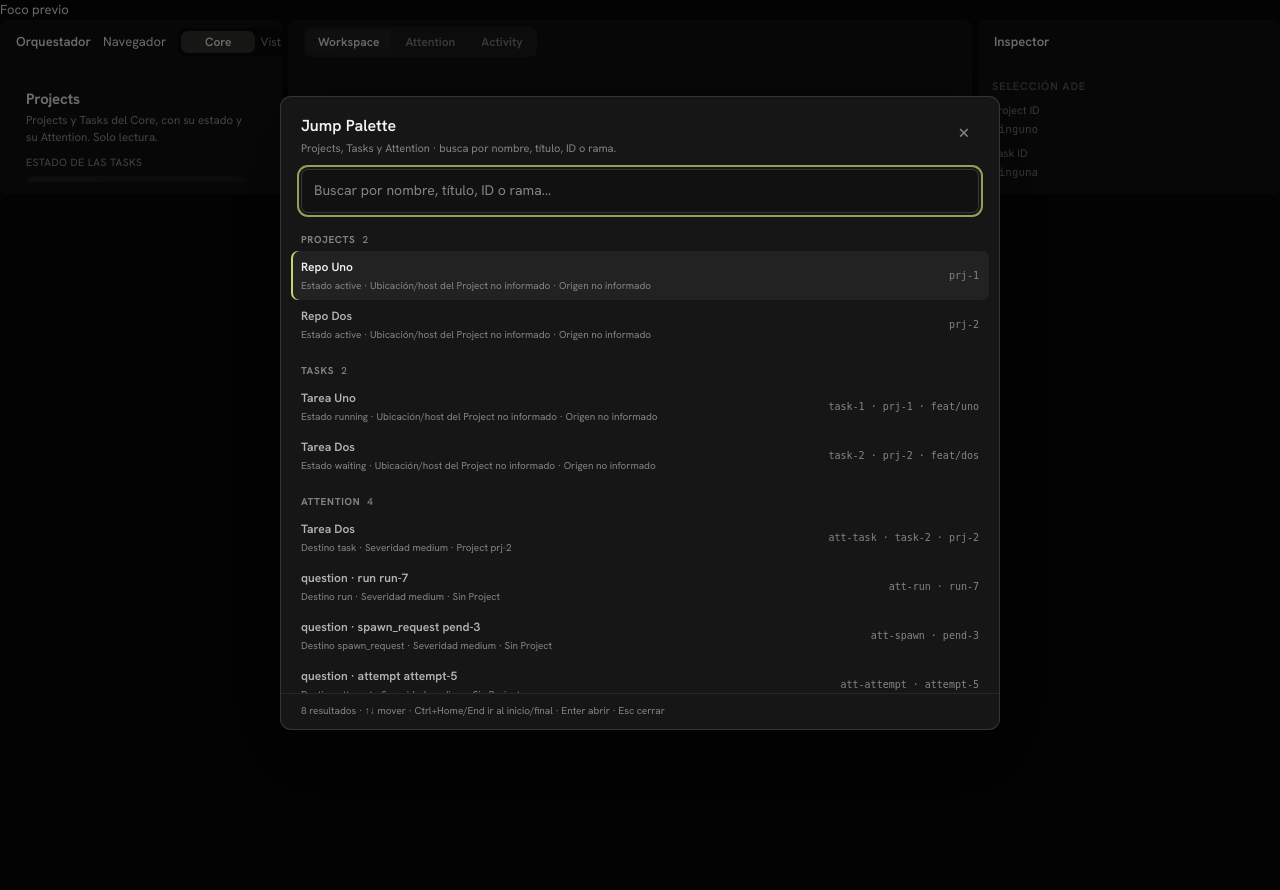
it: AdeShell · Jump Palette (LXO-102) › selecciona el Project exacto, cierra y devuelve el foco
Expected: the option "Repo Uno" is shown, [291,250,989,300]
Type "Repo Dos" into the dropdown named "Buscar Projects, Tasks y Attention". click: (640, 190)
box: [301,168,979,212]
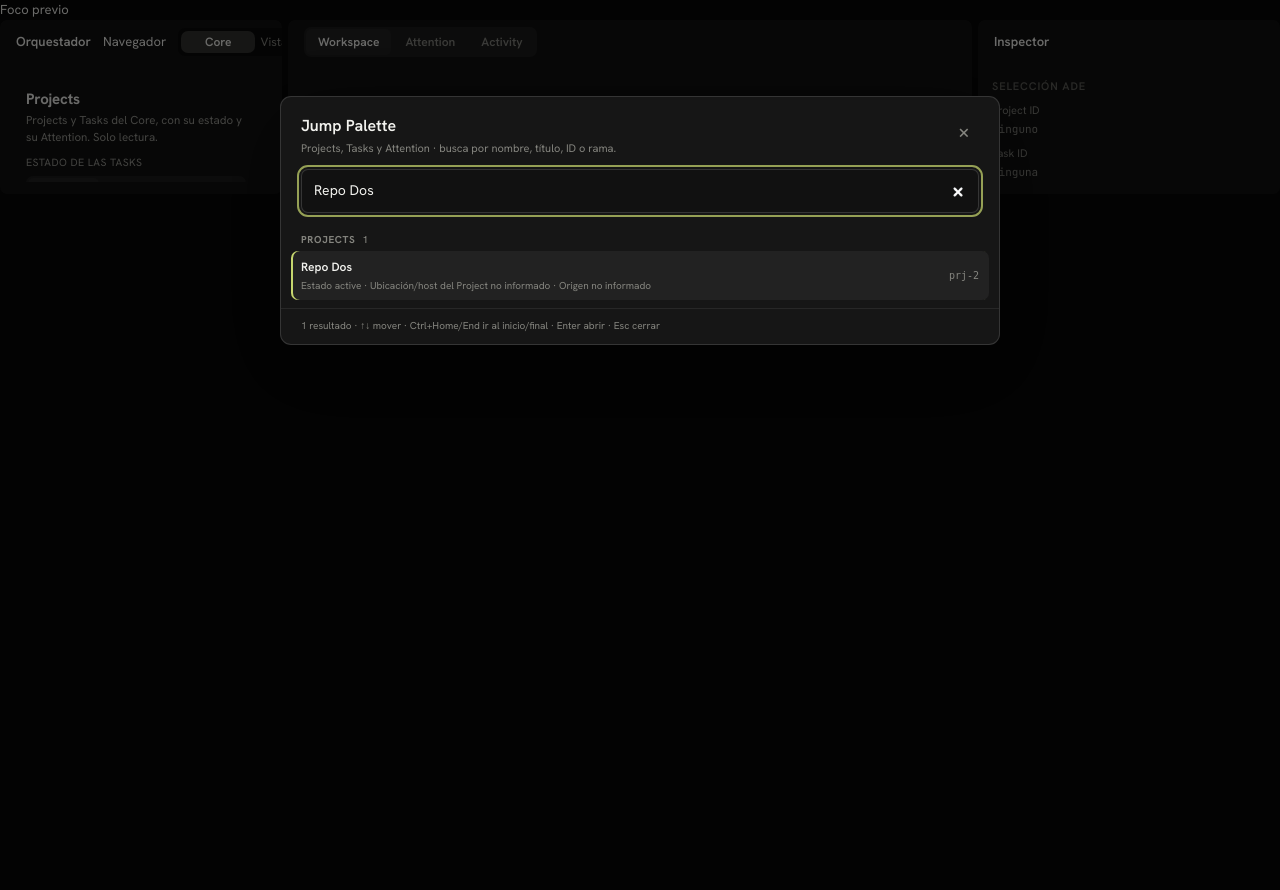
Click the option. click: (327, 267)
box: [291,250,989,300]
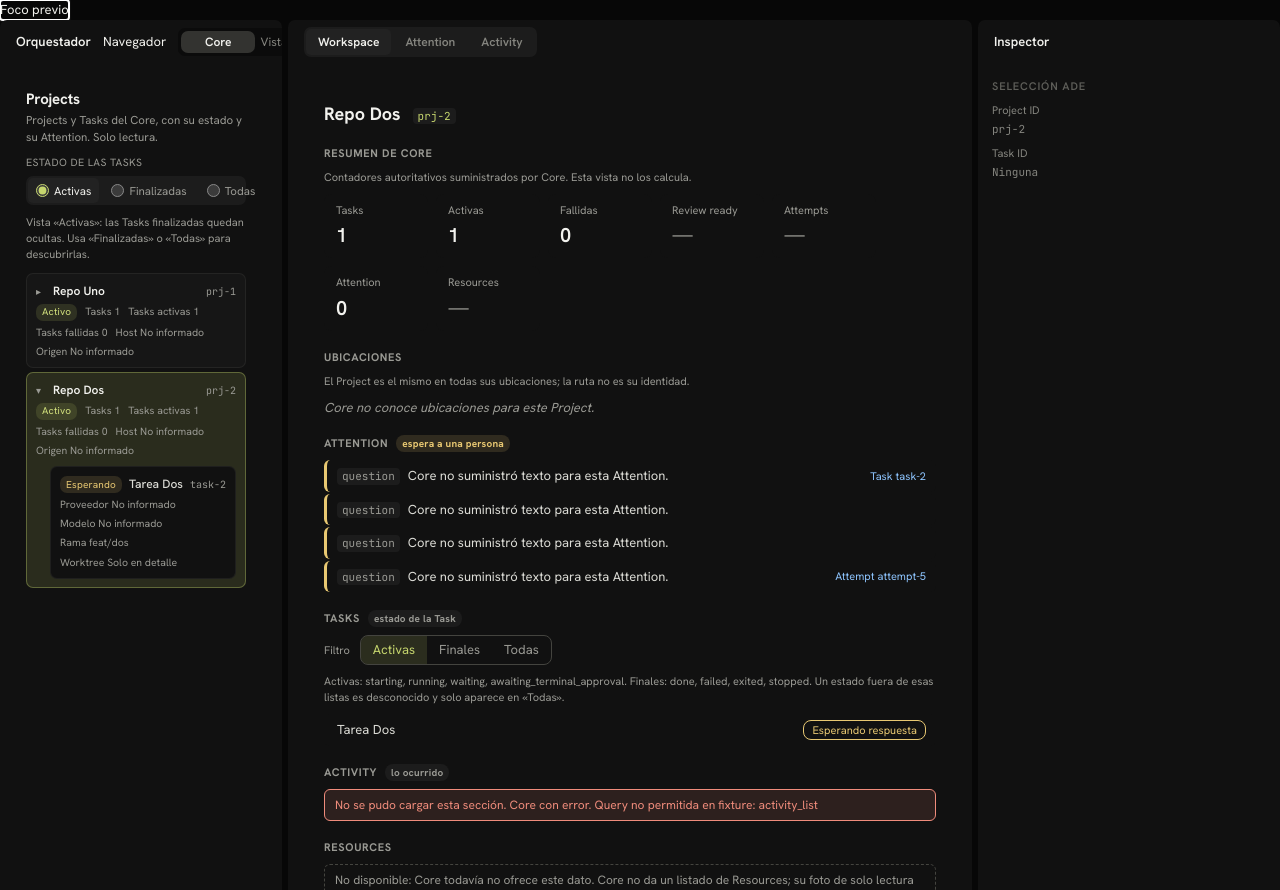
Expected: the dialog is gone
